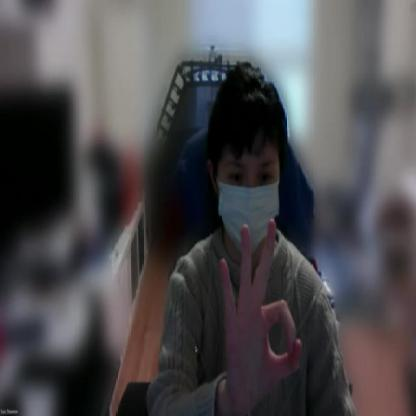nine: (216, 214, 303, 410)
